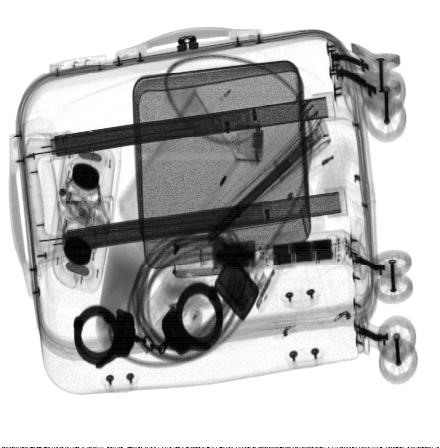Baton: (173, 236, 343, 277)
HandCuffs: (72, 279, 224, 369)
Lighter: (215, 254, 260, 322)
